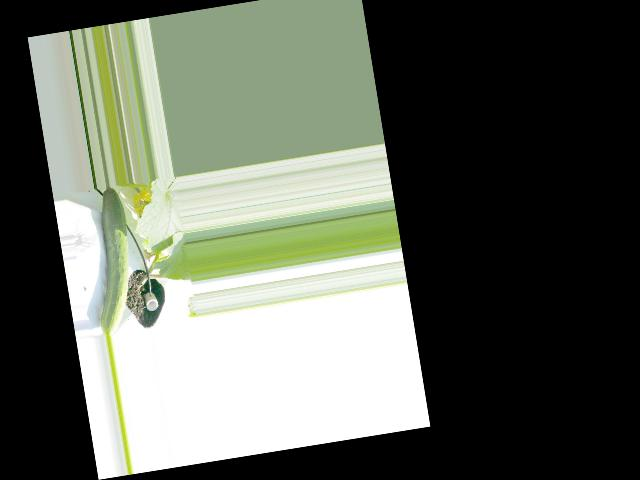cucumber: (79, 185, 143, 338)
